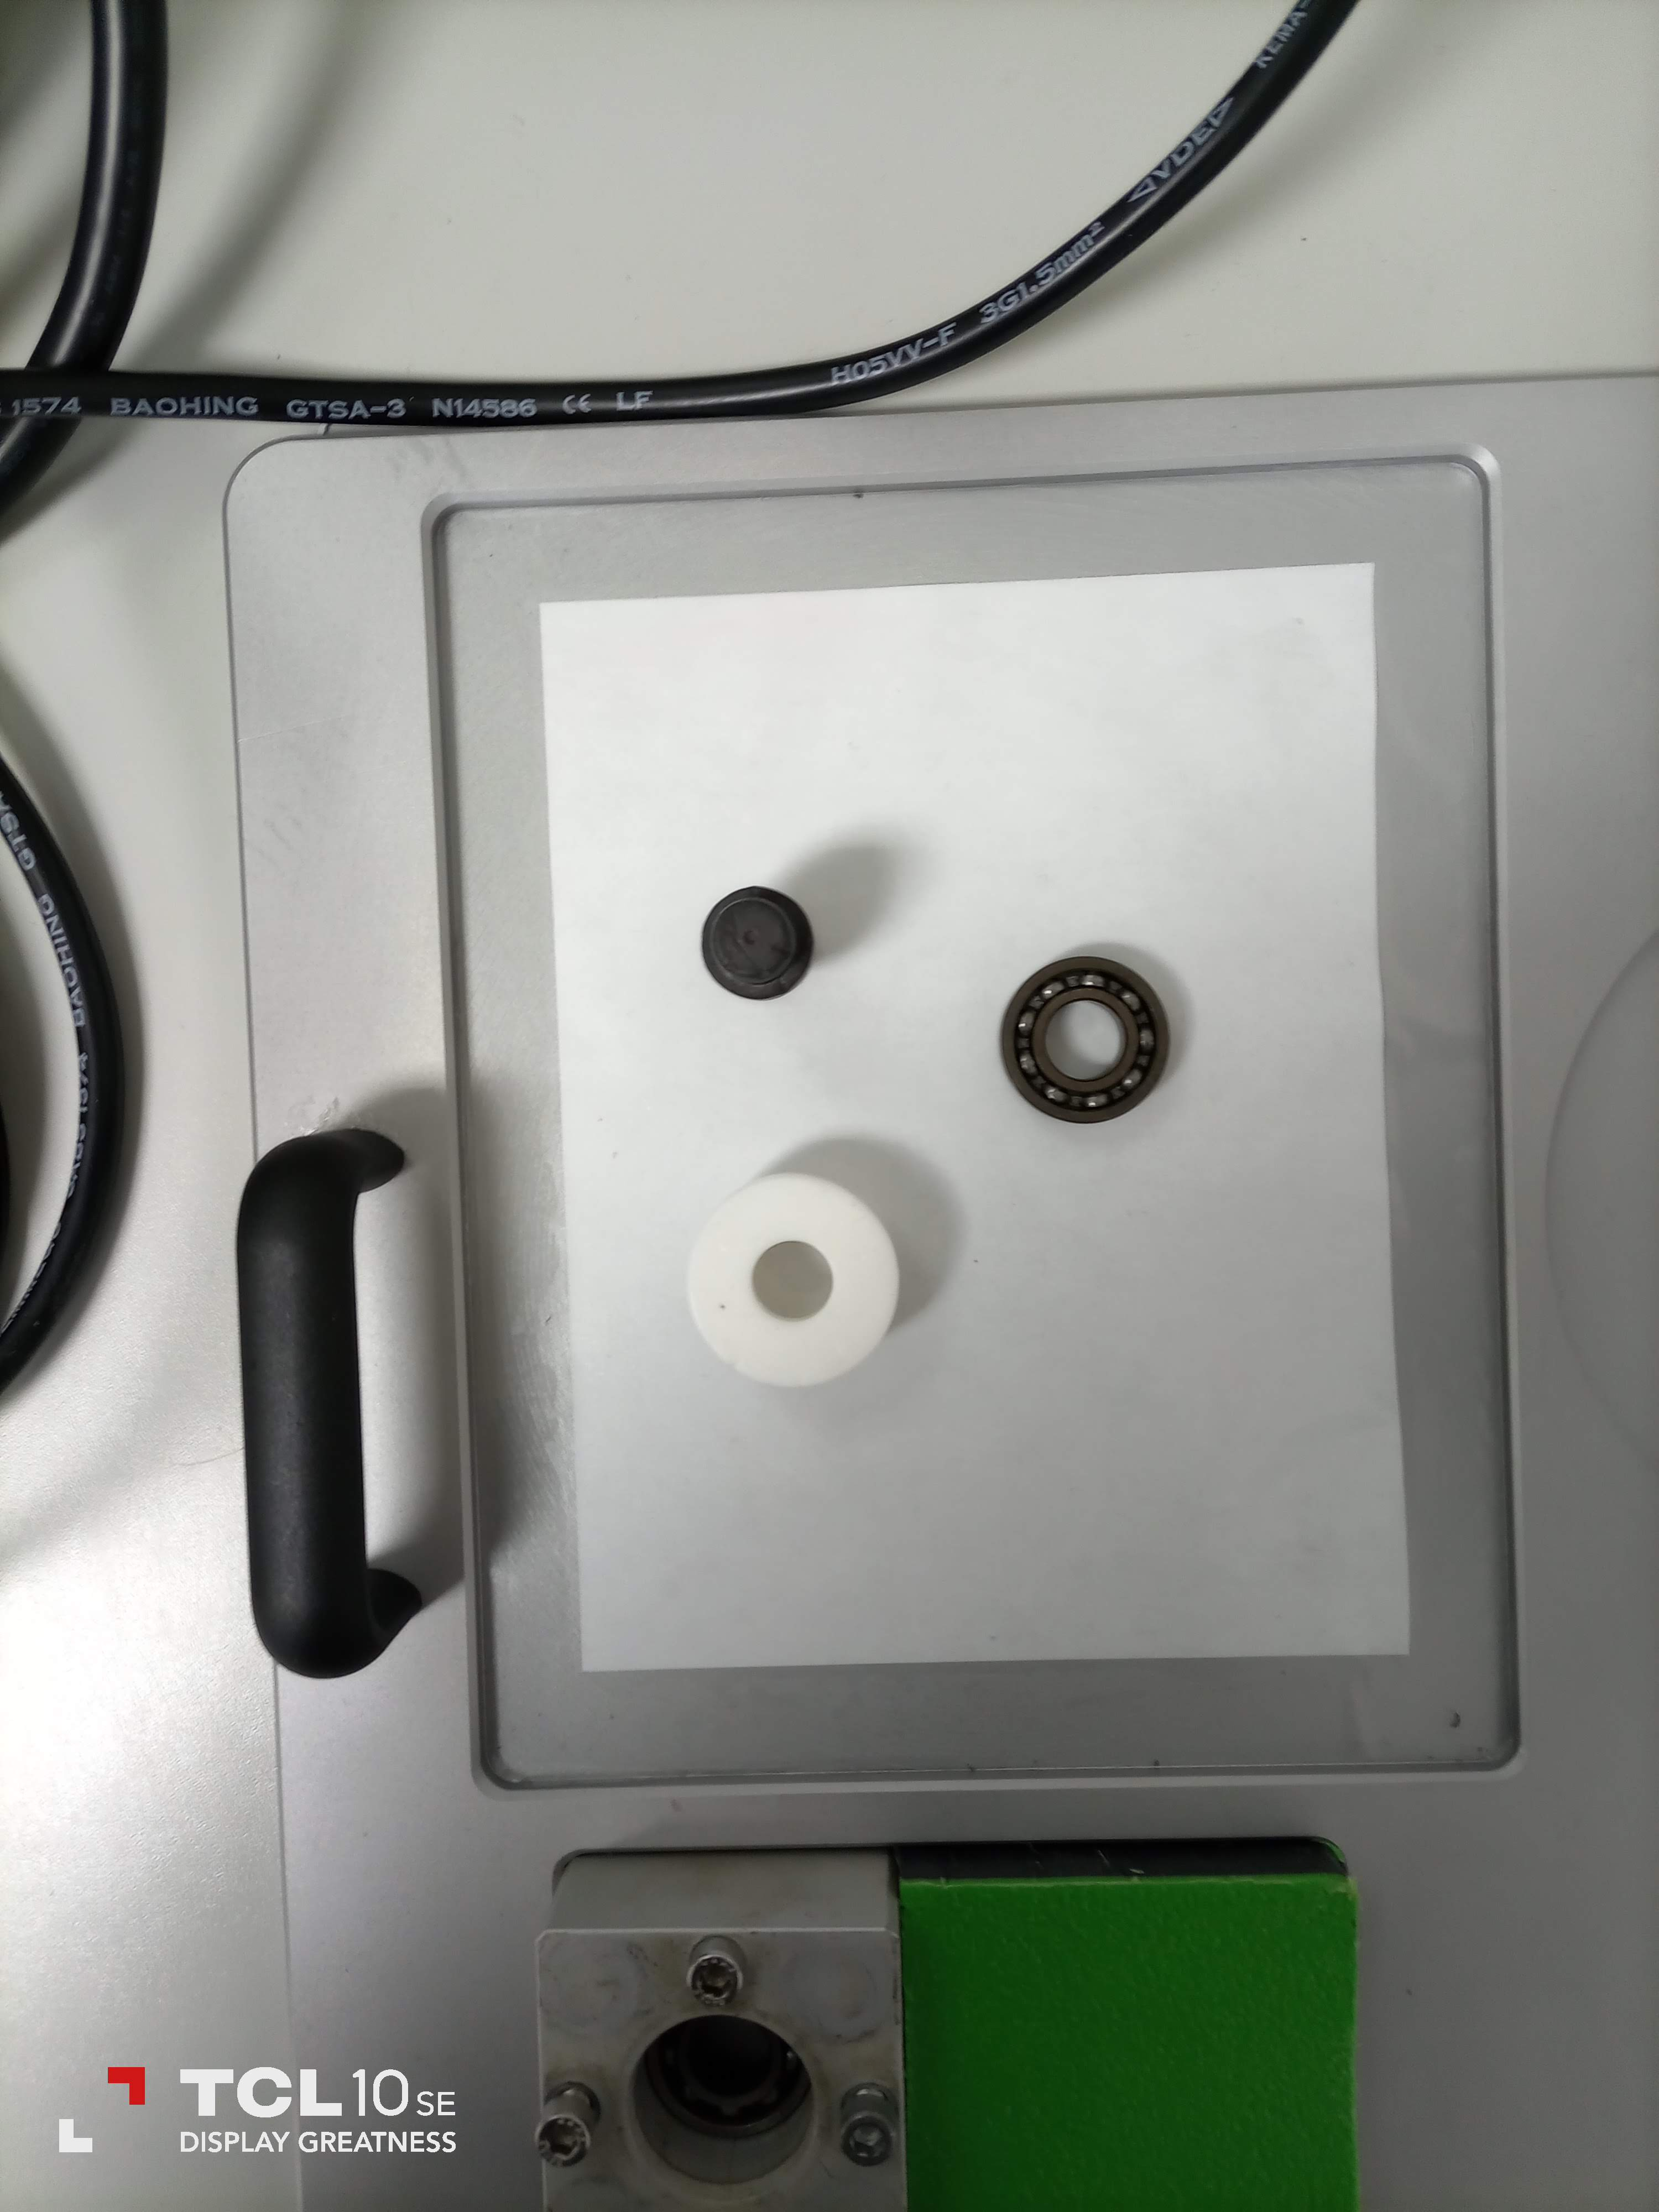Ardatza: (694, 878, 866, 1014)
Roda: (995, 944, 1176, 1162)
Tapa: (655, 1169, 922, 1379)
